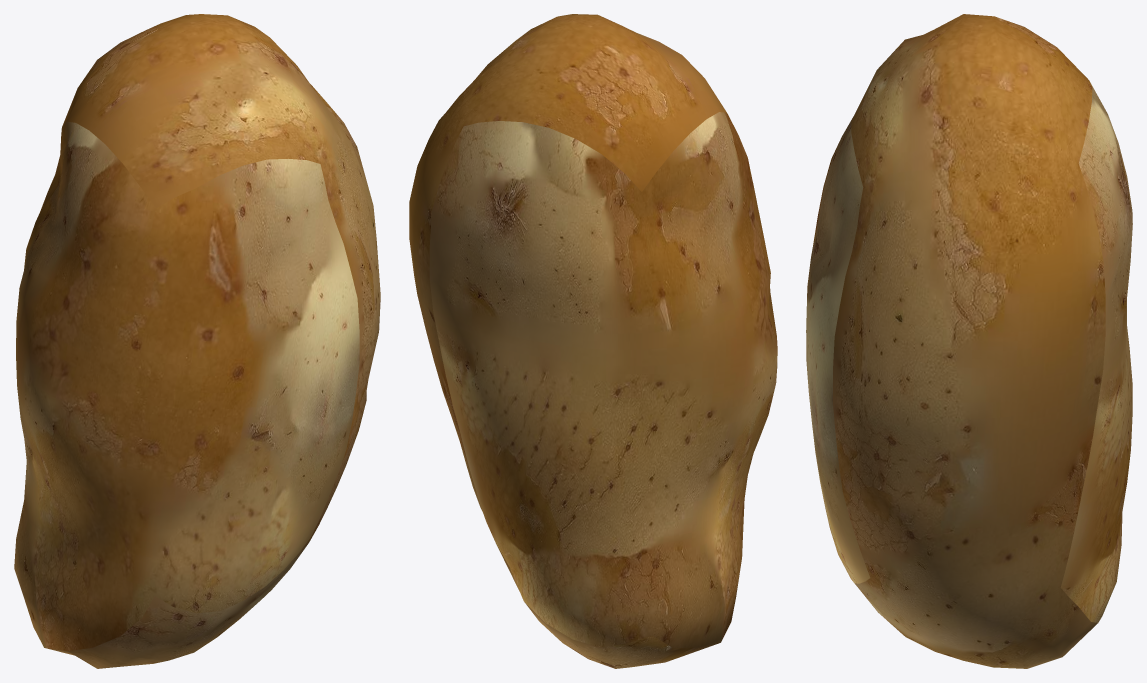
The picture shows the model from 3 angles, left to right: view 1: azimuth 30°, elevation 25°; view 2: azimuth 150°, elevation 25°; view 3: azimuth 270°, elevation 25°; orthographic projection. The views are drawn at different scales.
Size of the model in its own units: 0.5646 by 1 by 0.4478.
